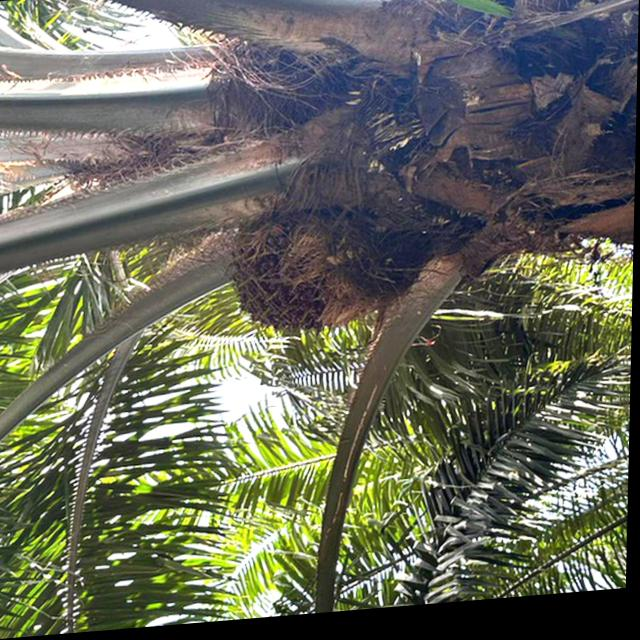almost: (221, 203, 385, 350)
